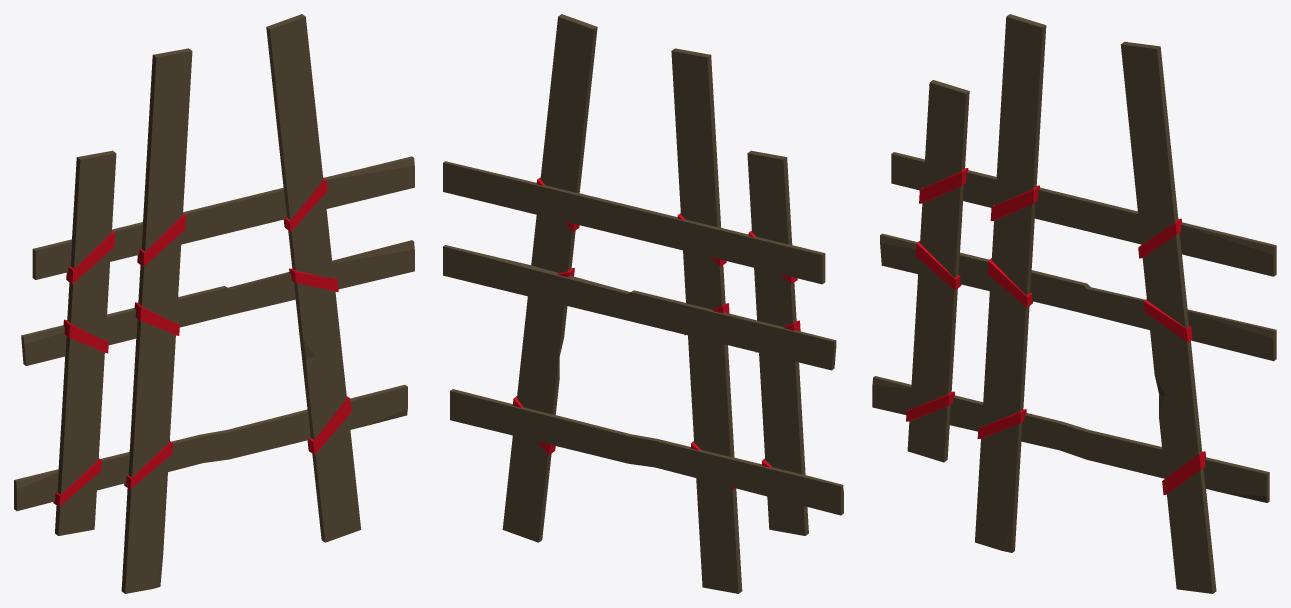
Rendered from model_window_barrier.fbx.
The picture shows the model from 3 angles, left to right: view 1: azimuth 30°, elevation 25°; view 2: azimuth 150°, elevation 25°; view 3: azimuth 330°, elevation 25°; orthographic projection.
Visible parts, largest first — view 1: model_window_barrier; view 2: model_window_barrier; view 3: model_window_barrier.
Part boxes in pixels (<box>): model_window_barrier: <box>14,14,414,593</box>; model_window_barrier: <box>443,14,843,593</box>; model_window_barrier: <box>872,14,1276,593</box>.
Size of the model in its own units: 238 by 306 by 7.64.
Materials: 1 (1 with a texture image).
